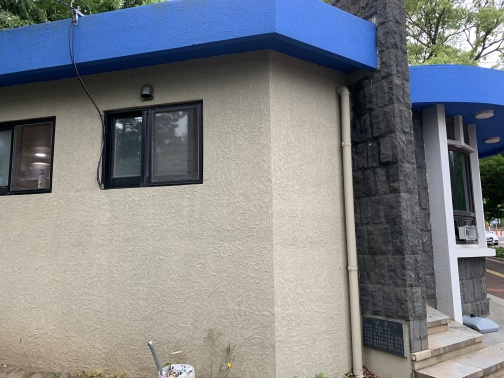Security Office: (8, 17, 504, 372), (343, 40, 503, 378)
